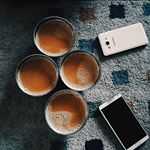cups: (43, 88, 89, 137), (13, 52, 60, 98), (58, 49, 103, 93), (31, 15, 78, 57)
